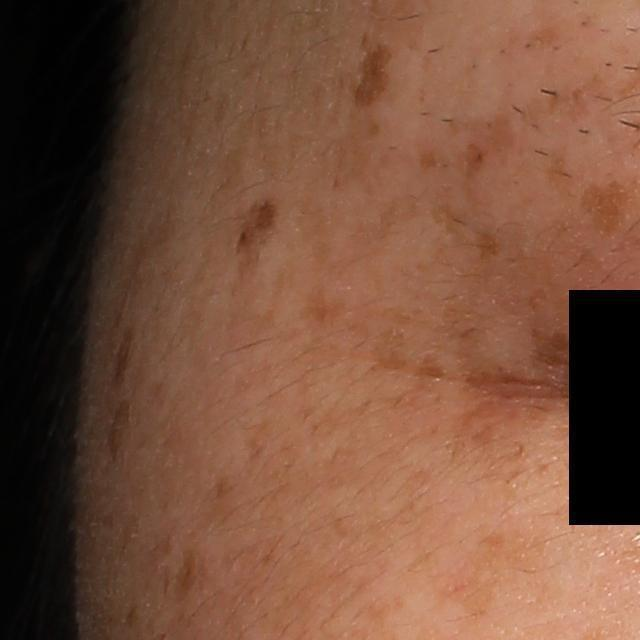melasma: (430, 524, 558, 620), (444, 401, 536, 485), (515, 320, 604, 392), (231, 194, 284, 274), (344, 39, 394, 112), (579, 175, 630, 235), (296, 278, 350, 331), (517, 12, 564, 59), (173, 542, 205, 610), (245, 415, 284, 465), (116, 327, 135, 392), (412, 349, 442, 385), (471, 230, 499, 267)
